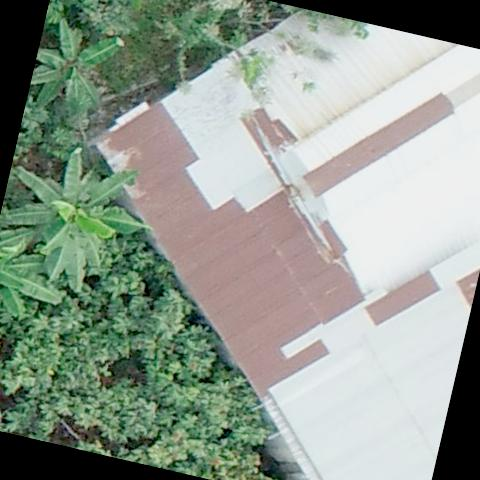Banana-plant: (8, 139, 150, 293), (23, 10, 128, 131), (0, 210, 76, 338)
